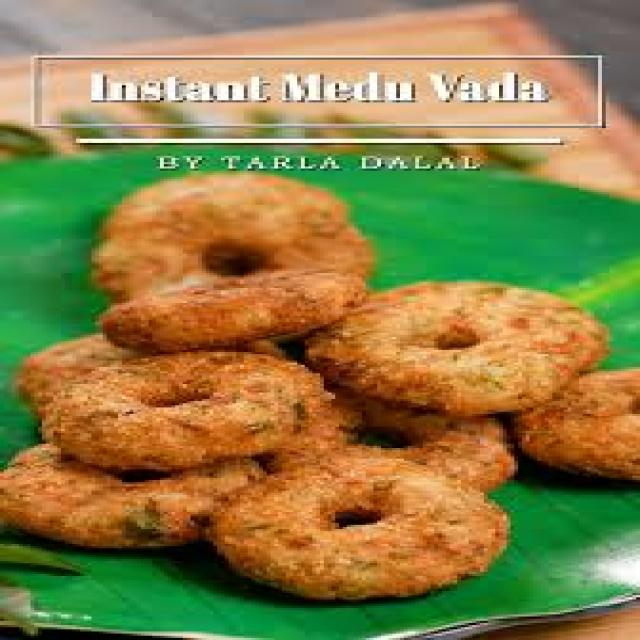MEDU VADA: (206, 420, 514, 597), (27, 337, 331, 471), (305, 282, 602, 416), (91, 175, 370, 301), (0, 444, 255, 546), (99, 271, 362, 348), (510, 369, 636, 480)
